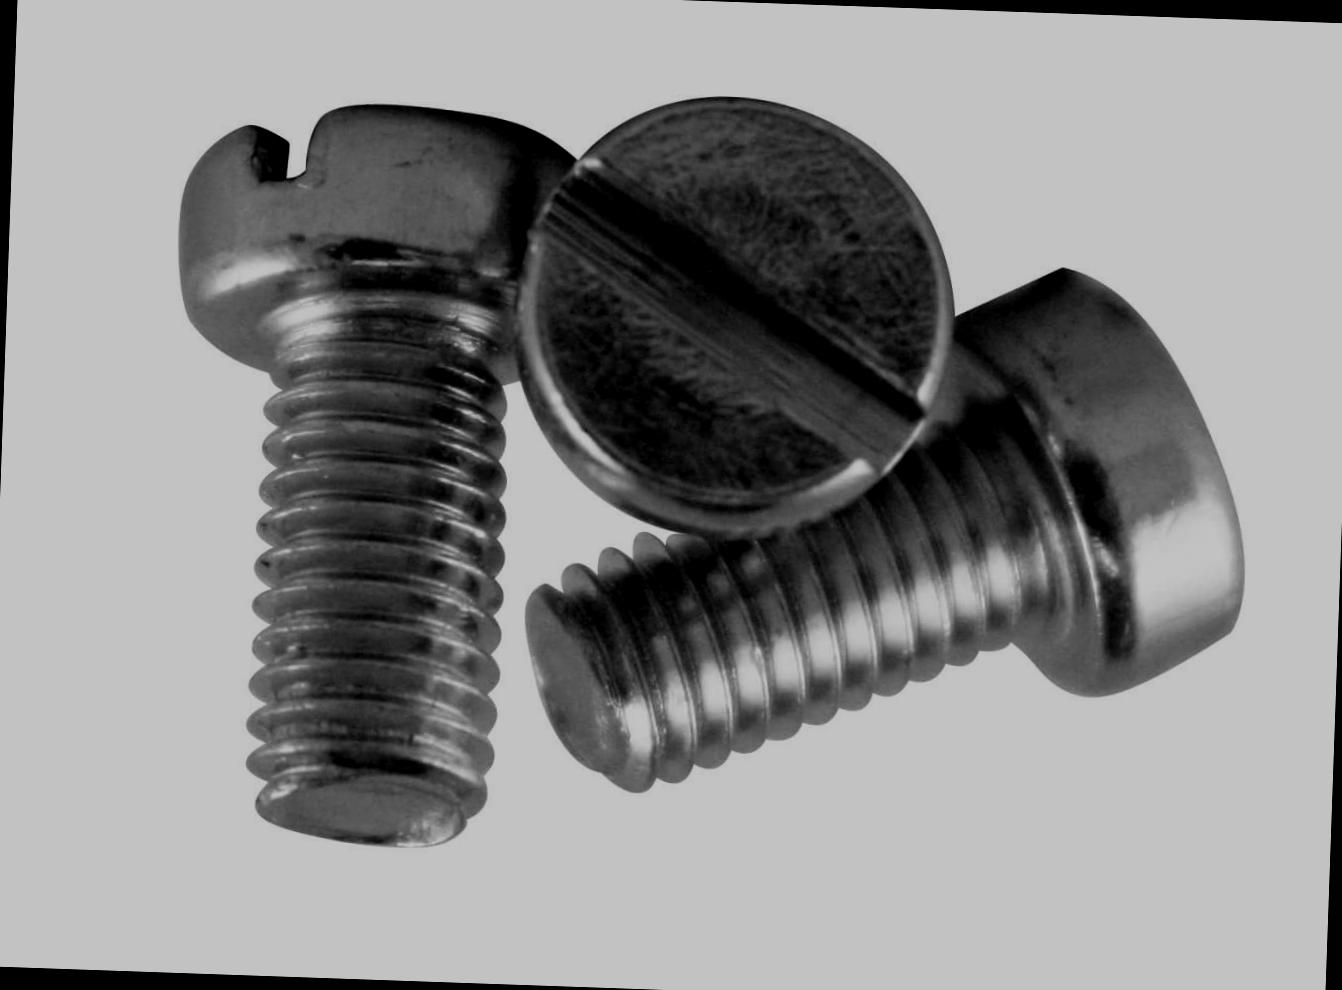screw: (514, 80, 960, 544)
